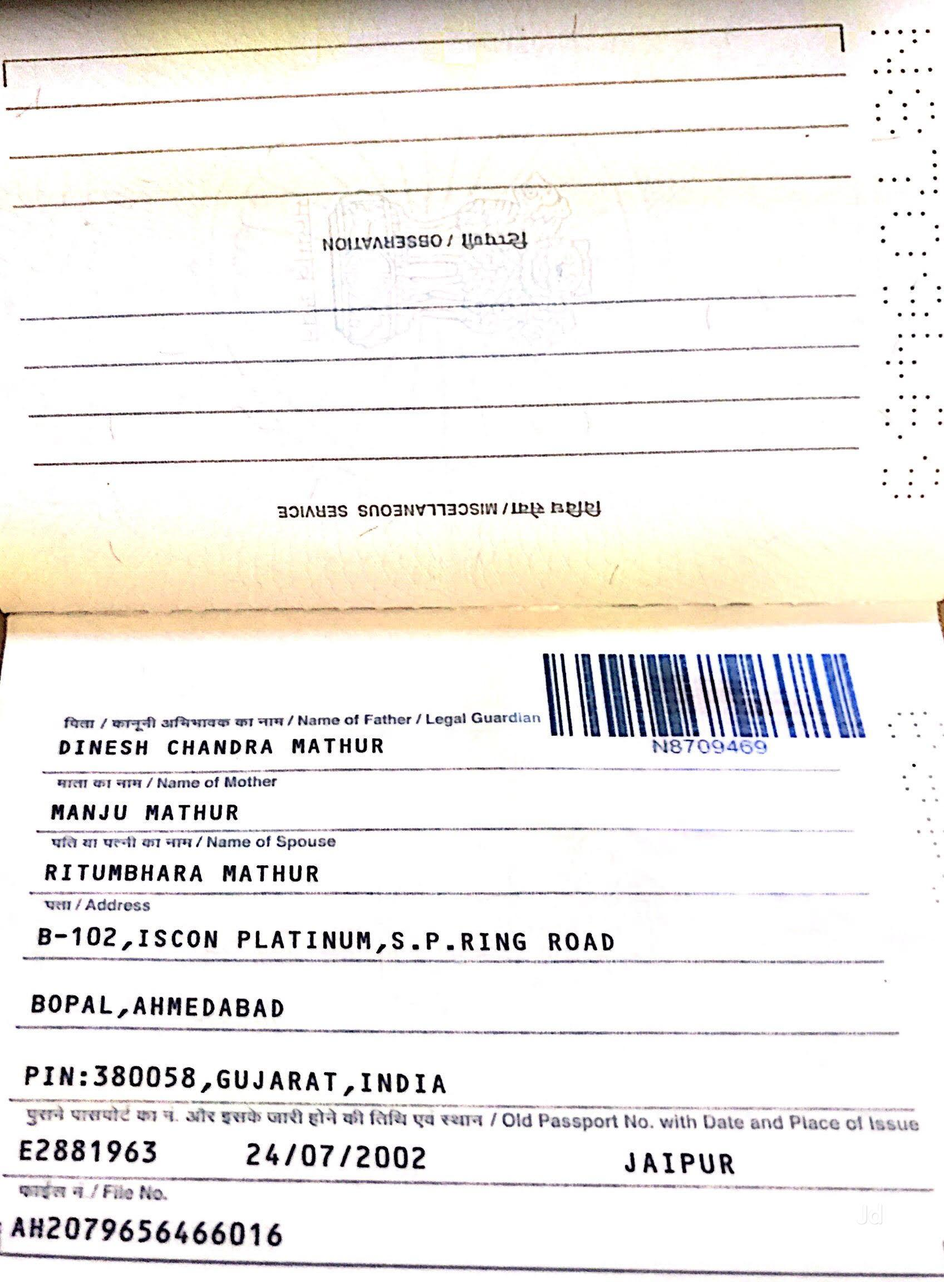File_no: (1, 1212, 291, 1260)
address: (26, 918, 676, 1102)
father_name: (42, 732, 406, 764)
mother_name: (31, 785, 285, 831)
old_passport_details: (8, 1124, 785, 1184)
passport_no: (643, 734, 775, 757)
spouse_name: (31, 849, 337, 890)
